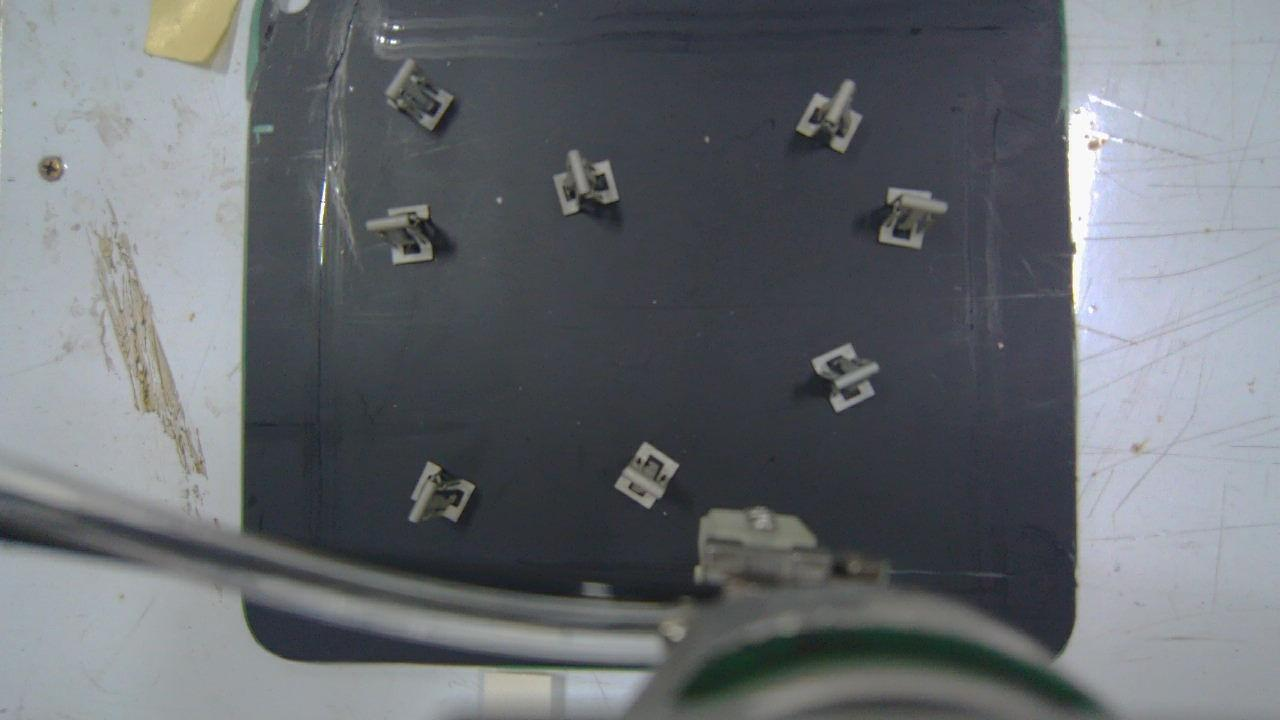ng: (385, 57, 455, 130), (408, 460, 474, 522), (879, 187, 948, 246), (366, 206, 432, 265)
pass: (798, 79, 864, 151), (813, 343, 878, 413), (616, 441, 678, 510), (554, 150, 617, 216)
